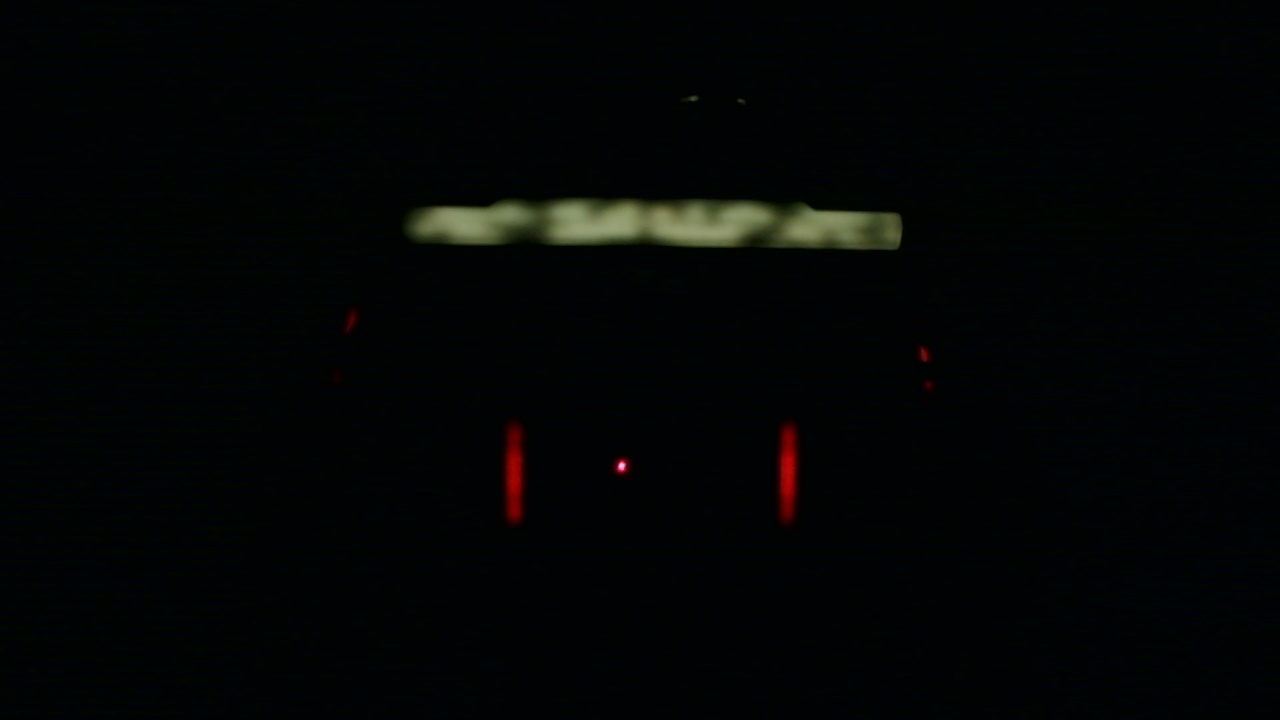lamp: (505, 422, 526, 518), (776, 420, 796, 520)
pair1: (506, 423, 796, 522)
